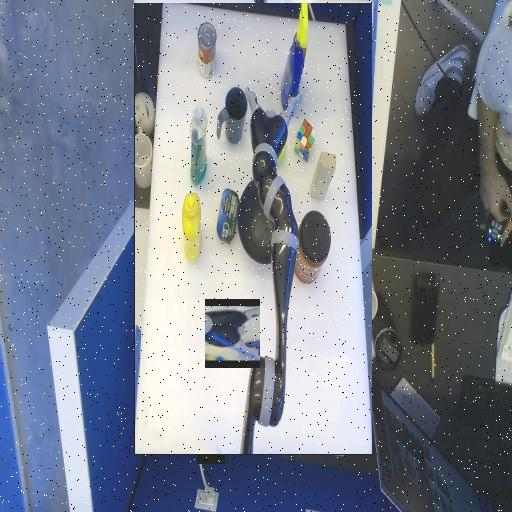bowl: (217, 210, 268, 262)
cleanser: (300, 271, 316, 351)
coffee_can: (175, 190, 214, 228)
jaco: (205, 306, 260, 361)
meat_can: (267, 230, 289, 251)
mug: (259, 313, 289, 369)
mustard_bottle: (306, 195, 324, 263)
rubik: (190, 295, 212, 338)
soup_can: (290, 379, 308, 434)
tennis_ball: (221, 294, 238, 324)
windex: (197, 391, 225, 413)
wooden_block: (170, 268, 195, 293)
workspace: (134, 3, 372, 454)
